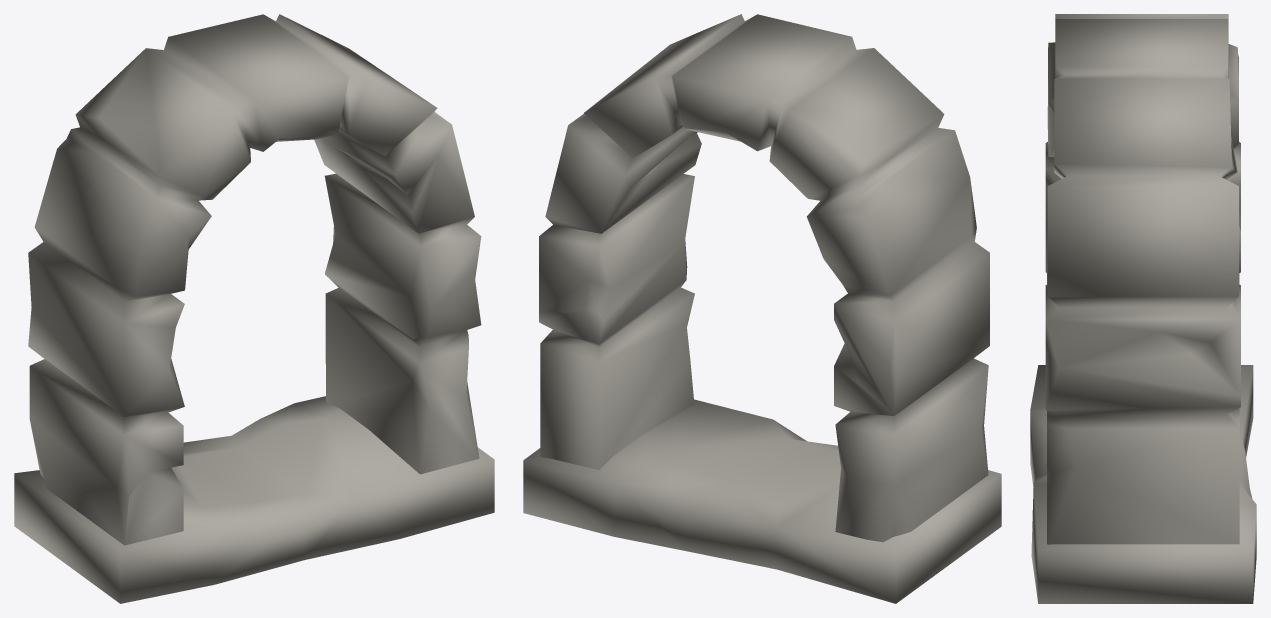
Rendered from rpgpp_ag_window_07a.fbx.
3 views of the same model, side by side, from view 1: azimuth 30°, elevation 25°; view 2: azimuth 150°, elevation 25°; view 3: azimuth 270°, elevation 25° (orthographic).
Visible parts, largest first — view 1: rpgpp_ag_window_07a; view 2: rpgpp_ag_window_07a; view 3: rpgpp_ag_window_07a.
Boxes of the visible parts, x1=… form: rpgpp_ag_window_07a: x1=14, y1=14, x2=494, y2=603; rpgpp_ag_window_07a: x1=523, y1=14, x2=1001, y2=603; rpgpp_ag_window_07a: x1=1030, y1=14, x2=1256, y2=603.
Size of the model in its own units: 1.24 by 1.47 by 0.6423.
